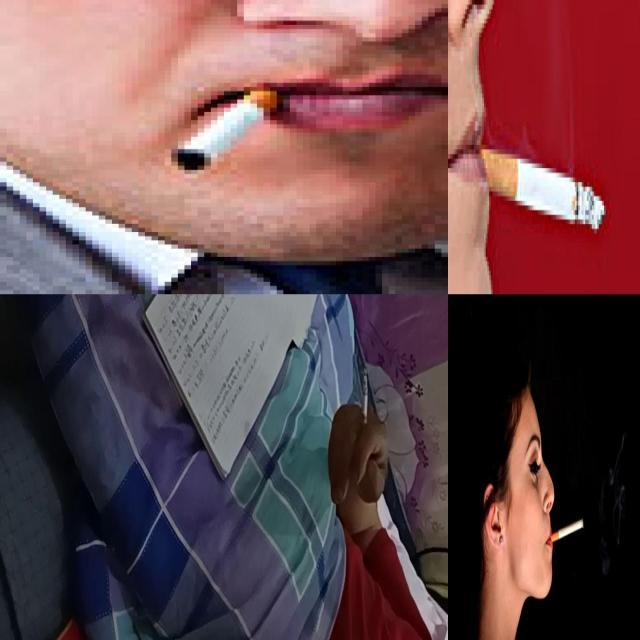smoking: (468, 133, 606, 234), (158, 78, 277, 165), (547, 516, 584, 546), (362, 368, 369, 433)
